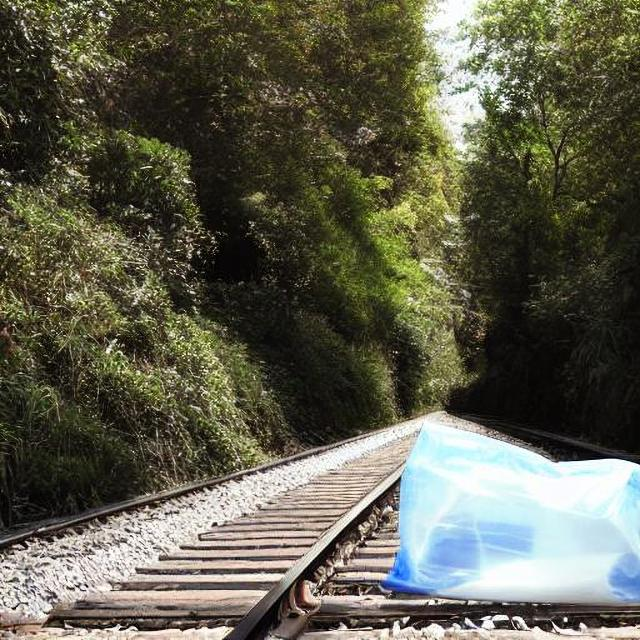plastic bag: (378, 415, 638, 607)
